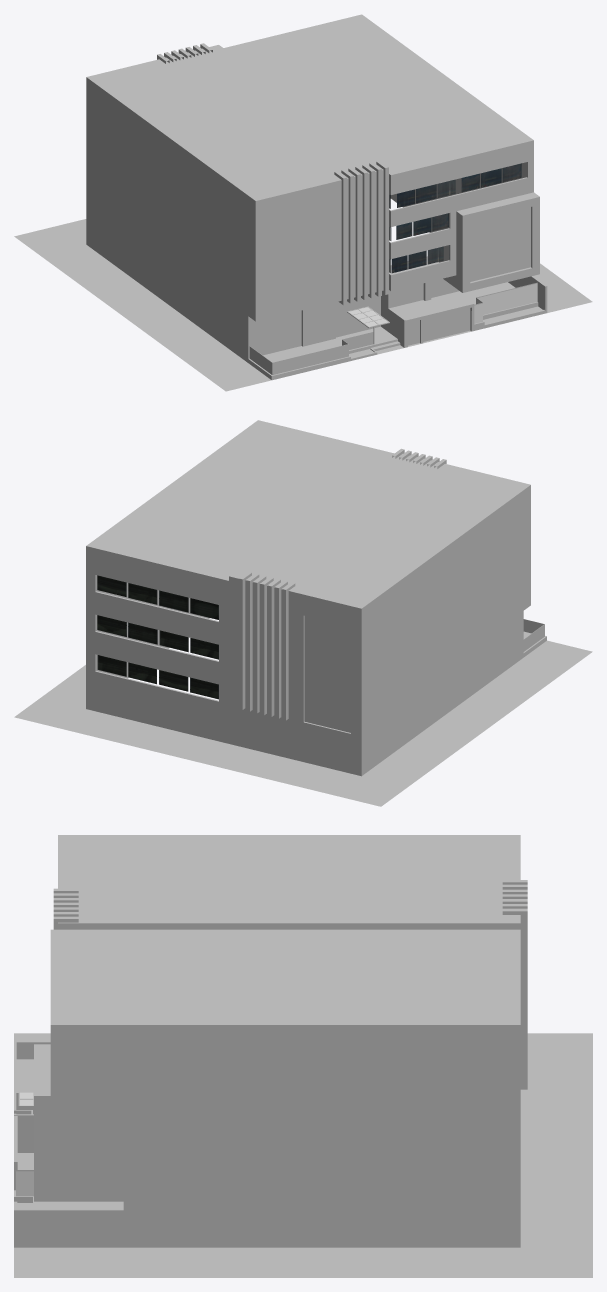
The picture shows the model from 3 angles, top to bottom: view 1: azimuth 30°, elevation 25°; view 2: azimuth 150°, elevation 25°; view 3: azimuth 270°, elevation 25°; orthographic projection. The views are drawn at different scales.
Visible parts, largest first — view 1: BB-049; view 2: BB-049; view 3: BB-049.
Boxes of the visible parts, <box> form: BB-049: <box>14,14,592,391</box>; BB-049: <box>14,420,592,806</box>; BB-049: <box>14,835,592,1277</box>.
Size of what is drawn, in the model's own units: 36 by 15.96 by 36.
